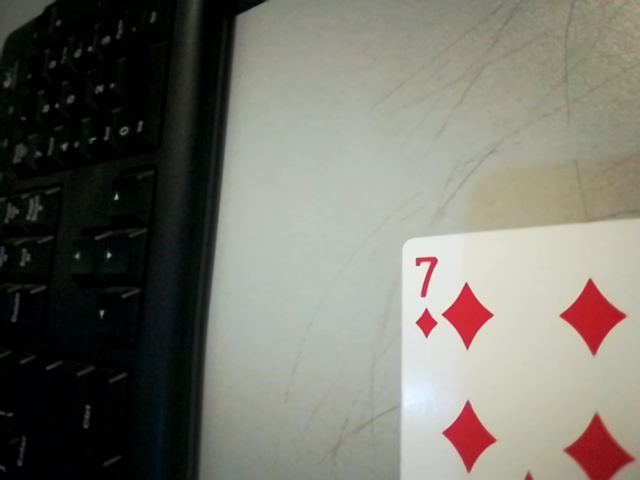fk 7: (404, 243, 450, 345)
